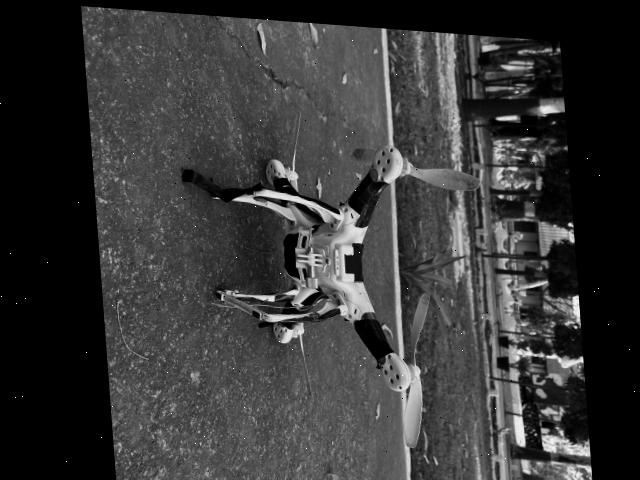drone: (155, 9, 486, 480)
